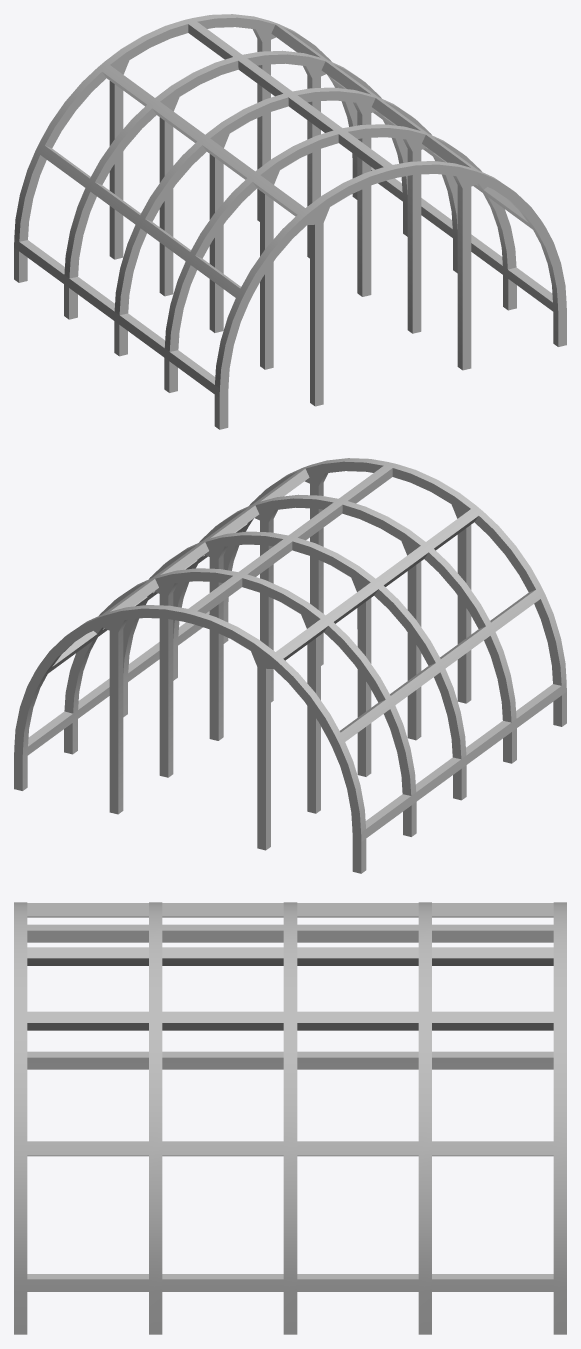
The model's file is WhiteMetalBuildingLargeArchedGreenhouse1.fbx.
3 views of the same model, one above another, from view 1: azimuth 30°, elevation 25°; view 2: azimuth 150°, elevation 25°; view 3: azimuth 270°, elevation 25° (orthographic). The views are drawn at different scales.
Visible parts, largest first — view 1: WhiteMetalBuildingLargeArchedGreenhouse1; view 2: WhiteMetalBuildingLargeArchedGreenhouse1; view 3: WhiteMetalBuildingLargeArchedGreenhouse1.
Boxes of the visible parts, x1,y1,x2,y2 form: WhiteMetalBuildingLargeArchedGreenhouse1: [14, 14, 566, 429]; WhiteMetalBuildingLargeArchedGreenhouse1: [14, 458, 566, 873]; WhiteMetalBuildingLargeArchedGreenhouse1: [14, 902, 566, 1334].
Bounding box in the file's own units: 2000 × 1198 × 2050.
Materials: 1 (1 with a texture image).
